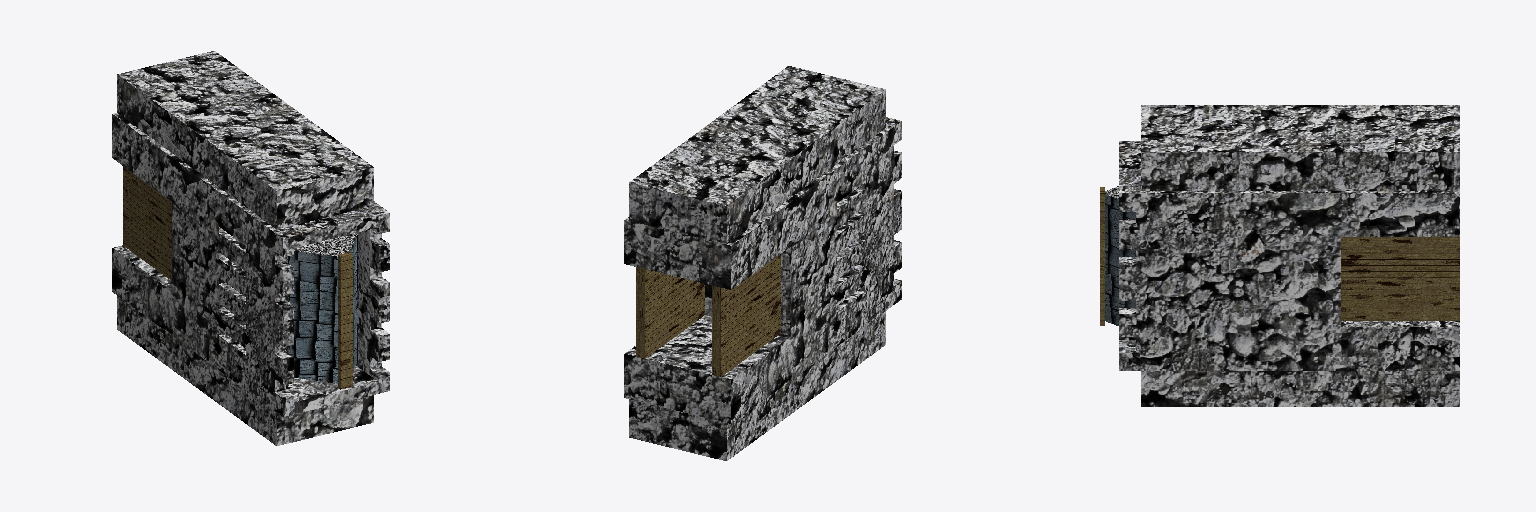
The picture shows the model from 3 angles: view 1: azimuth 30°, elevation 25°; view 2: azimuth 150°, elevation 25°; view 3: azimuth 270°, elevation 25°; orthographic projection.
Parts seen in each view (by area): view 1: Box001, roof, Box004, Box002, Loft001; view 2: Box001, Box004, Box003; view 3: Box001, Box003, roof, Box002.
Part boxes in pixels (left/top/right/bottom): Box001: left=112, top=51, right=389, bottom=445; roof: left=290, top=235, right=357, bottom=383; Box004: left=123, top=166, right=171, bottom=280; Box002: left=338, top=252, right=352, bottom=389; Loft001: left=286, top=233, right=357, bottom=353; Box001: left=624, top=66, right=901, bottom=460; Box004: left=712, top=254, right=780, bottom=376; Box003: left=636, top=266, right=704, bottom=358; Box001: left=1119, top=105, right=1459, bottom=406; Box003: left=1341, top=237, right=1459, bottom=320; roof: left=1105, top=194, right=1135, bottom=325; Box002: left=1100, top=187, right=1104, bottom=325.
Size of the model in its own units: 17.77 by 40.53 by 51.85.
3 materials, 3 textured.